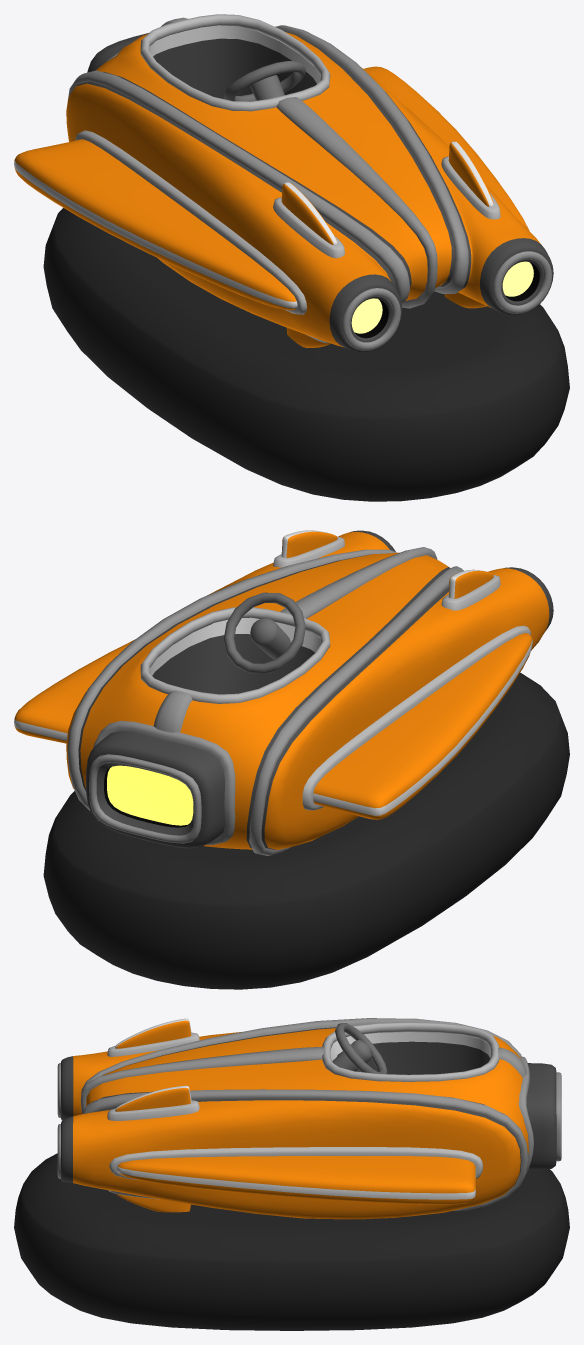
The model's file is mesh_Car_Menu_M.fbx.
3 renders of one model, top to bottom at view 1: azimuth 30°, elevation 25°; view 2: azimuth 150°, elevation 25°; view 3: azimuth 270°, elevation 25°, orthographic. The views are drawn at different scales.
Visible parts, largest first — view 1: mesh_Car_Menu_M; view 2: mesh_Car_Menu_M; view 3: mesh_Car_Menu_M.
Boxes of the visible parts, x1,y1,x2,y2 form: mesh_Car_Menu_M: [14, 14, 569, 501]; mesh_Car_Menu_M: [14, 530, 569, 989]; mesh_Car_Menu_M: [14, 1018, 569, 1330].
Size of the model in its own units: 1.89 by 1.5 by 2.97.
